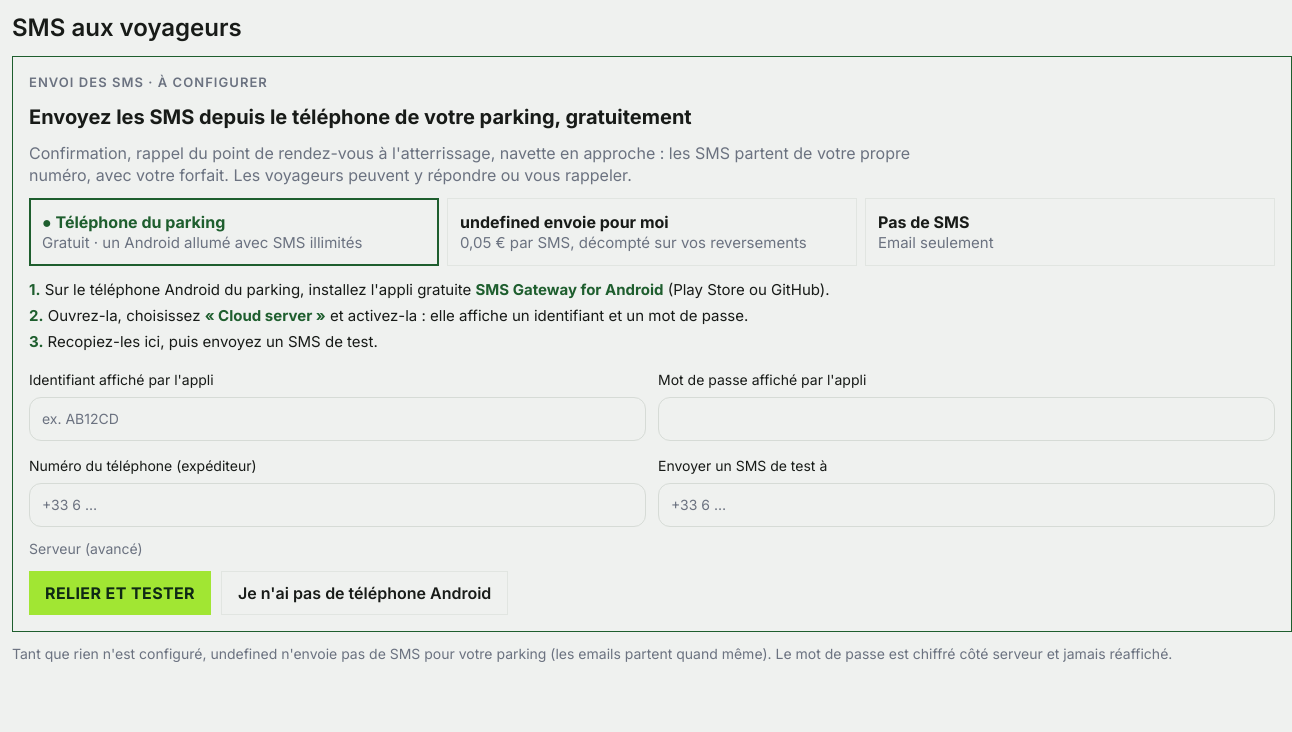
SMS aux voyageurs : avant liaison › le téléphone est relié même si le SMS de test échoue : l'erreur est dite, l'état relié montre la cause
Type "AB12CD" into the field labelled "Identifiant affiché par l'appli".
click(338, 419); type("AB12CD")  # box x1=29 y1=397 x2=646 y2=441
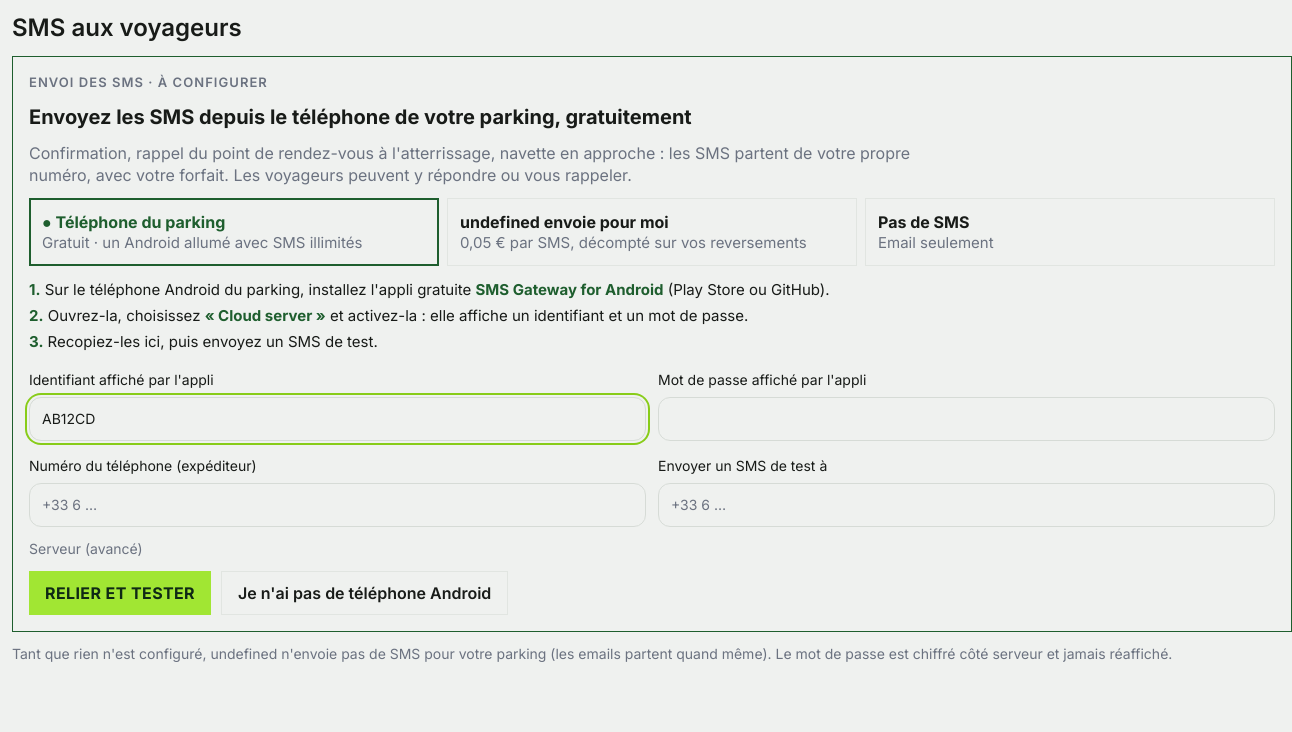
Type "s3cret" into the password field labelled "Mot de passe affiché par l'appli".
click(966, 419); type("s3cret")  # box x1=658 y1=397 x2=1275 y2=441
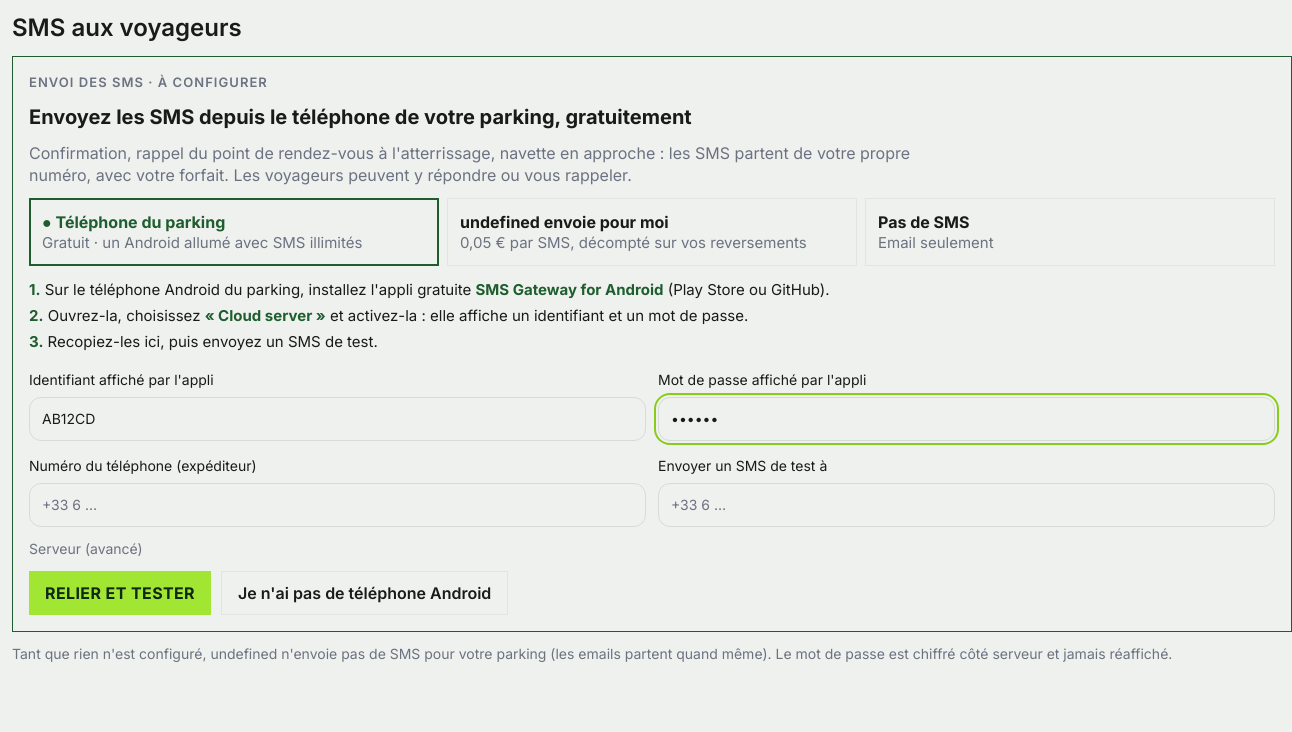
Type "0612345678" into the field labelled "Numéro du téléphone (expéditeur)".
click(338, 505); type("0612345678")  # box x1=29 y1=483 x2=646 y2=527
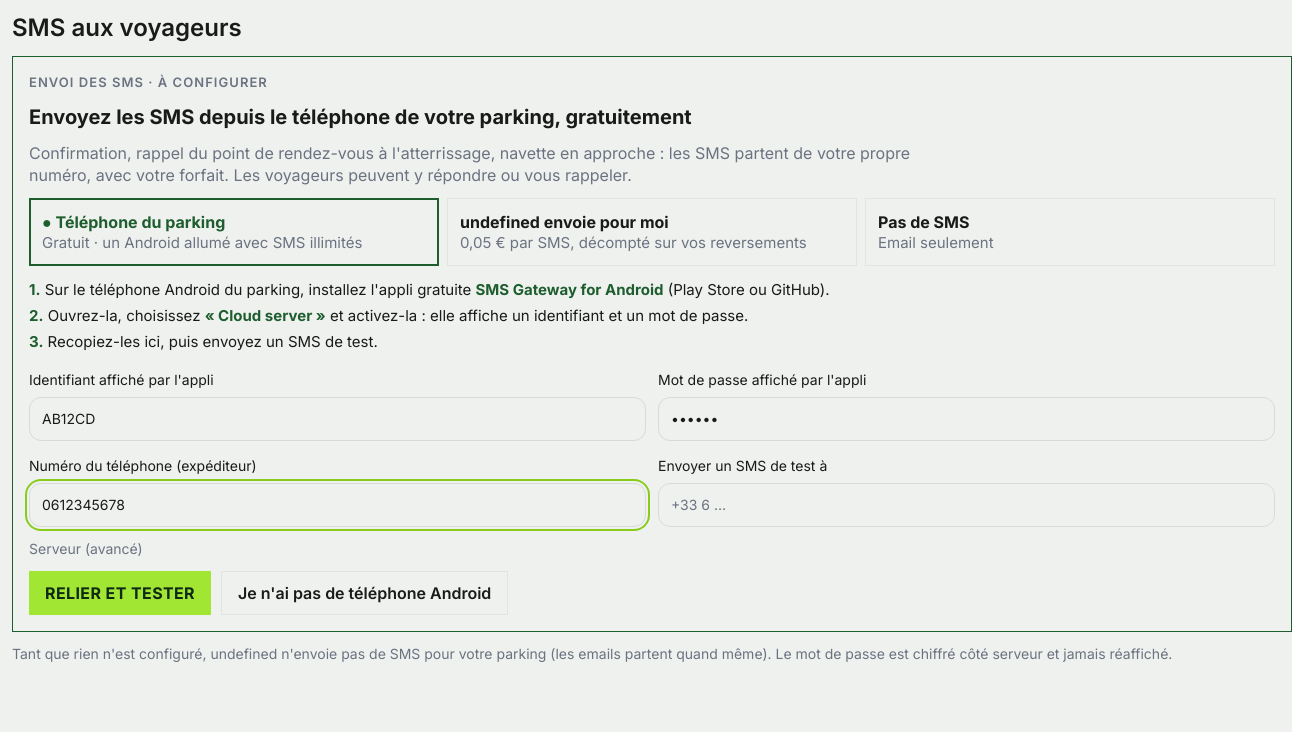
Type "0698765432" into the field labelled "Envoyer un SMS de test à".
click(966, 505); type("0698765432")  # box x1=658 y1=483 x2=1275 y2=527
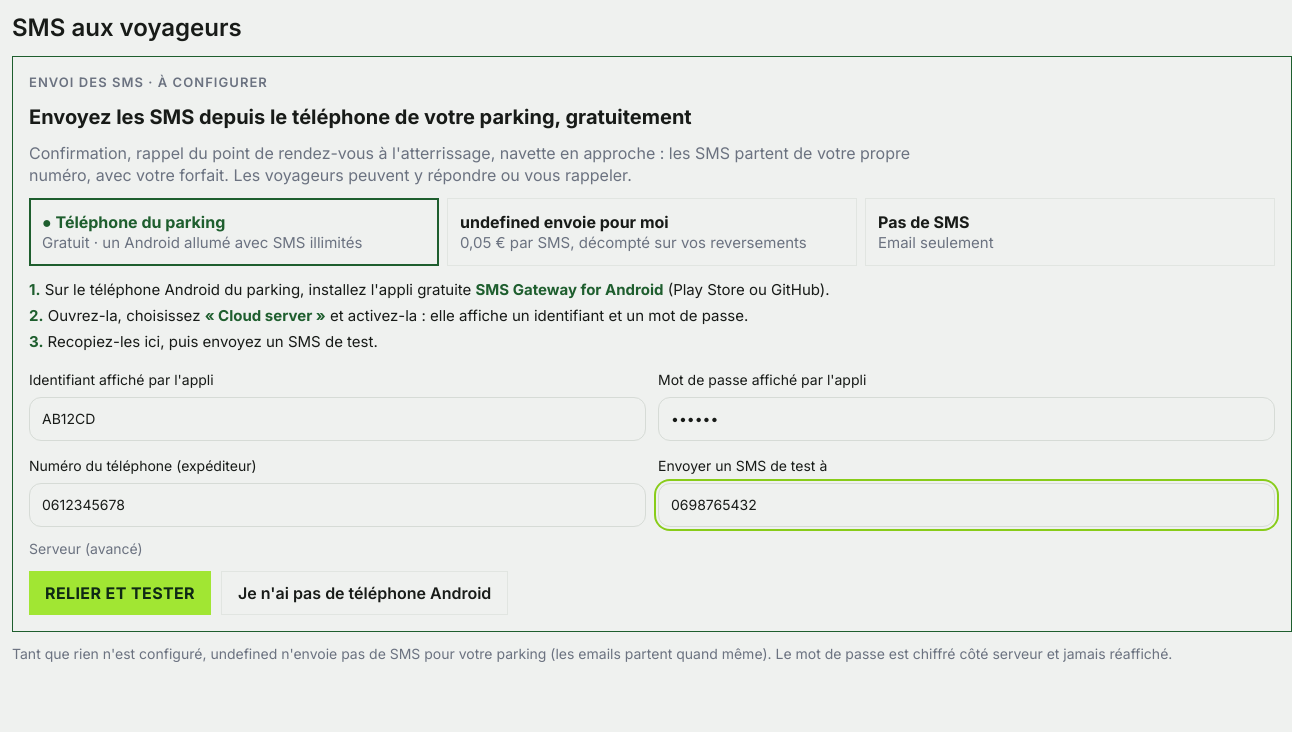
Click the button "Relier et tester".
click(120, 593)  # box x1=29 y1=571 x2=211 y2=615
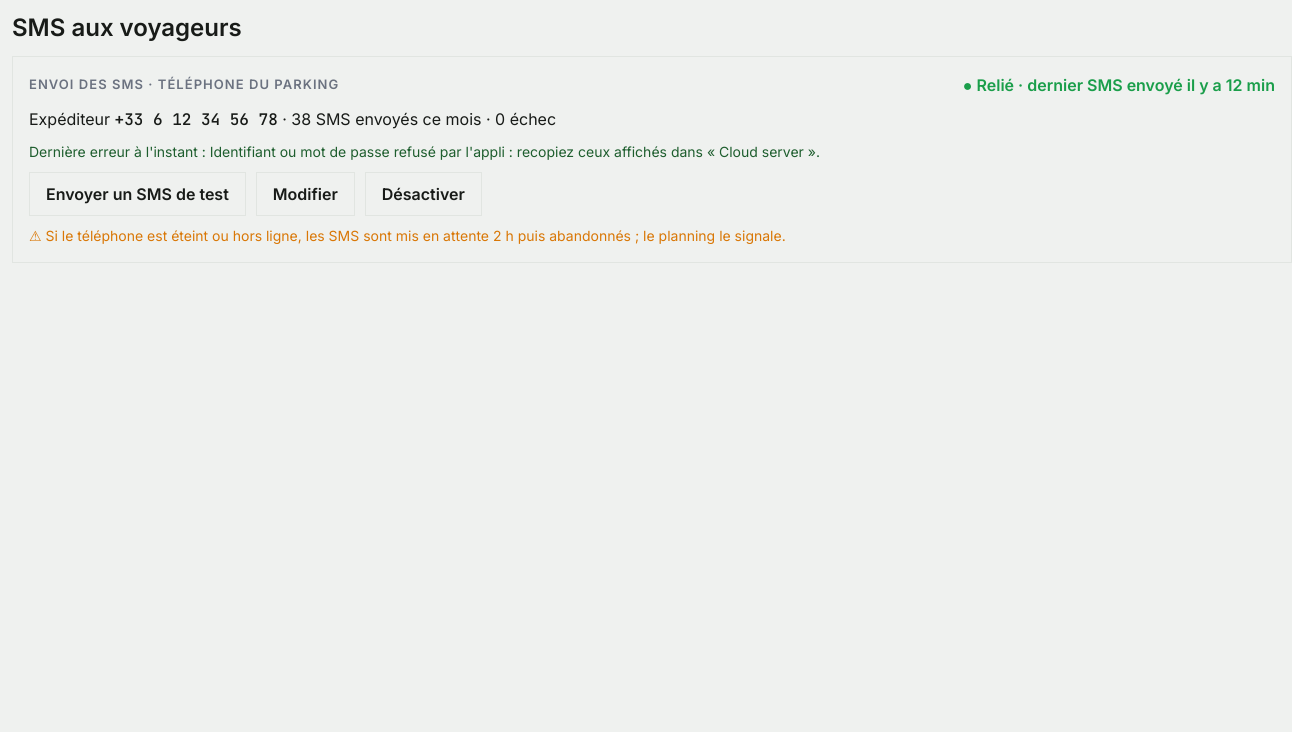
Now the text "Identifiant ou mot de passe refusé" is shown, box x1=210 y1=143 x2=820 y2=160
